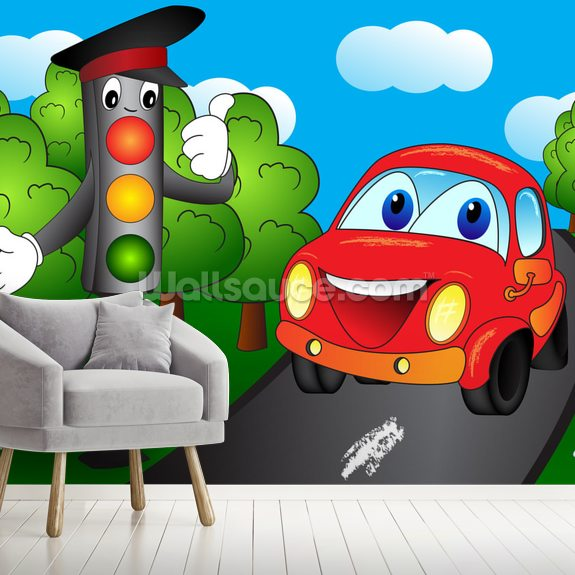trafficLight: (76, 51, 168, 299)
